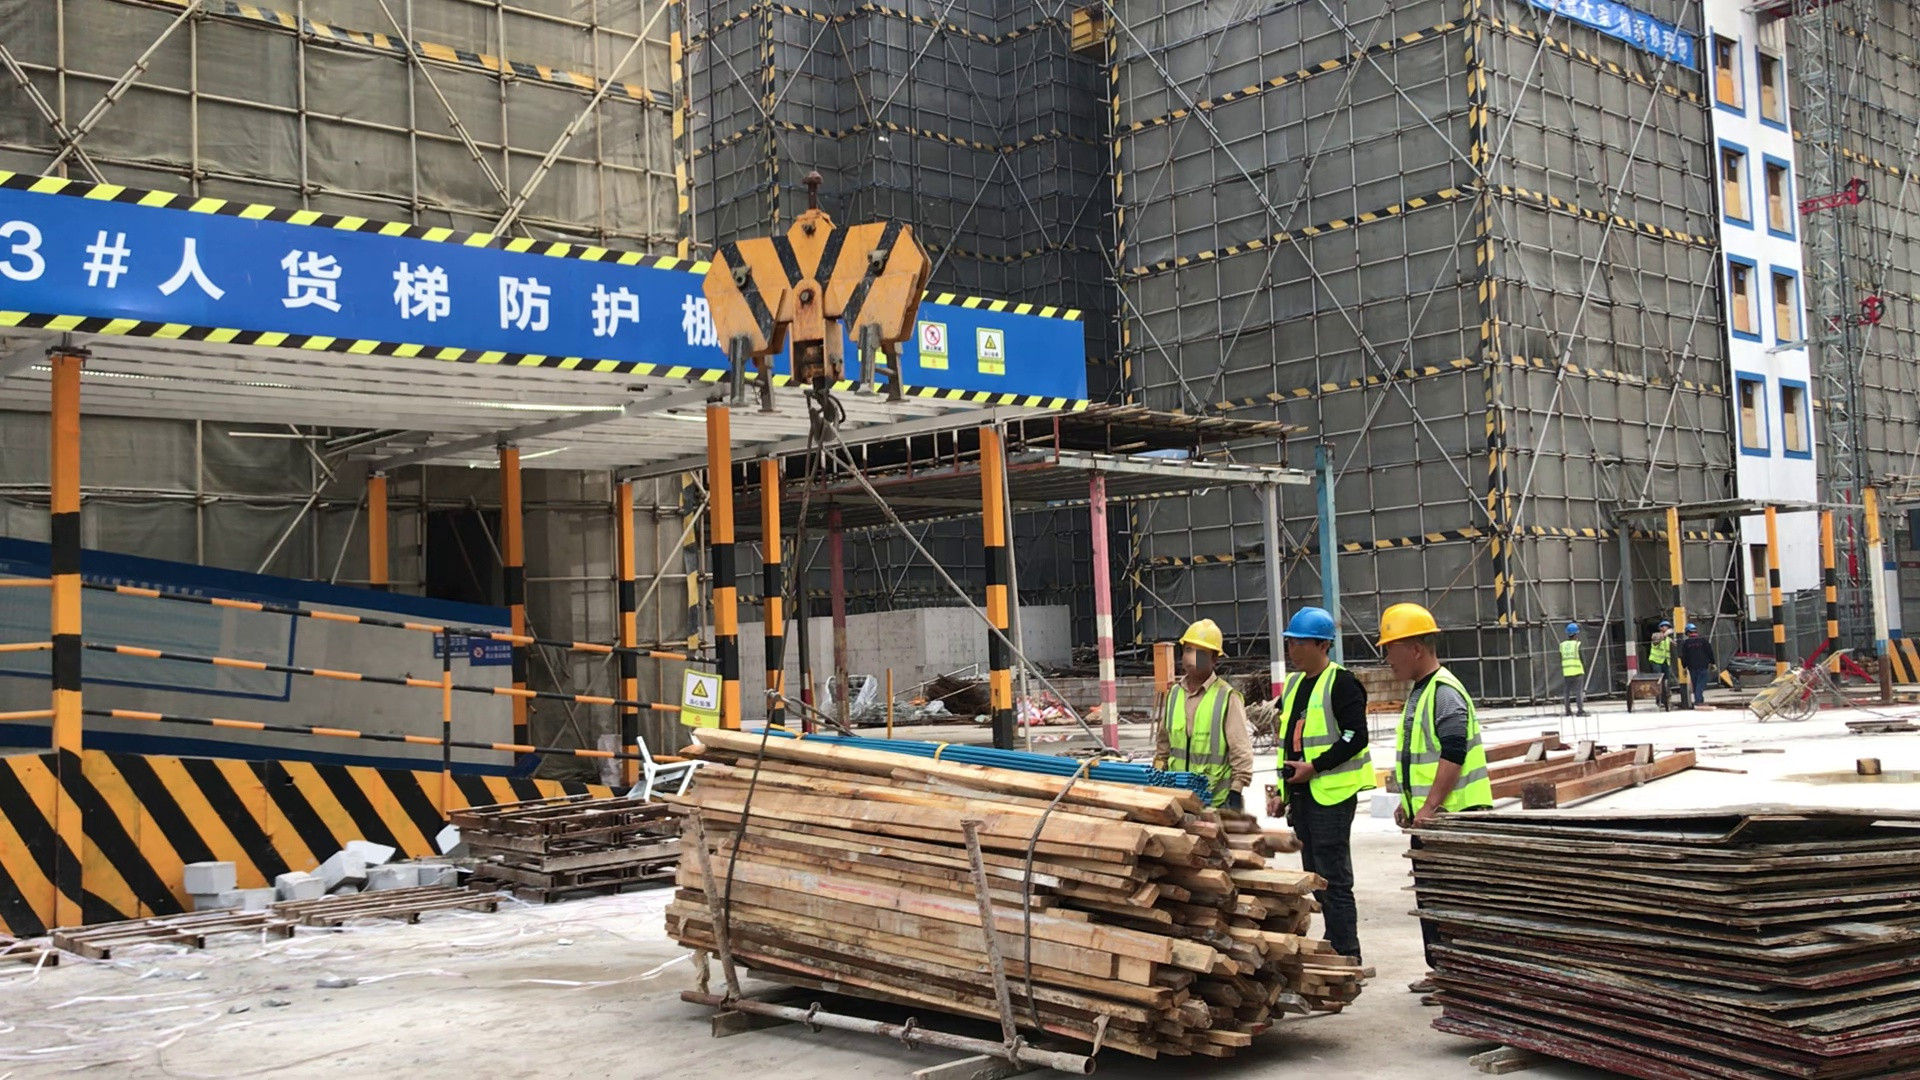board: (1394, 800, 1920, 1073)
handcart: (1746, 648, 1855, 733)
helmet: (1371, 602, 1441, 646), (1280, 606, 1341, 643), (1179, 617, 1229, 653), (1565, 619, 1580, 636), (1686, 622, 1699, 632), (1660, 621, 1670, 625)
hook: (683, 193, 916, 427)
person: (1375, 602, 1495, 1010), (1276, 601, 1378, 975), (1151, 617, 1256, 811), (1557, 620, 1591, 720), (1678, 622, 1716, 702), (1647, 619, 1680, 707)
slogan: (1561, 6, 1701, 63)
vest: (1276, 663, 1376, 810), (1400, 668, 1487, 809), (1156, 677, 1233, 789), (1558, 639, 1584, 689)
wood: (665, 721, 1386, 1074)
